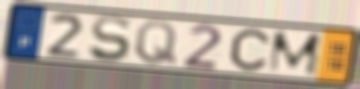2: (182, 22, 225, 71), (45, 12, 86, 59)
C: (229, 27, 272, 73)
M: (265, 30, 324, 77)
Q: (133, 19, 179, 67)
S: (87, 14, 132, 64)
